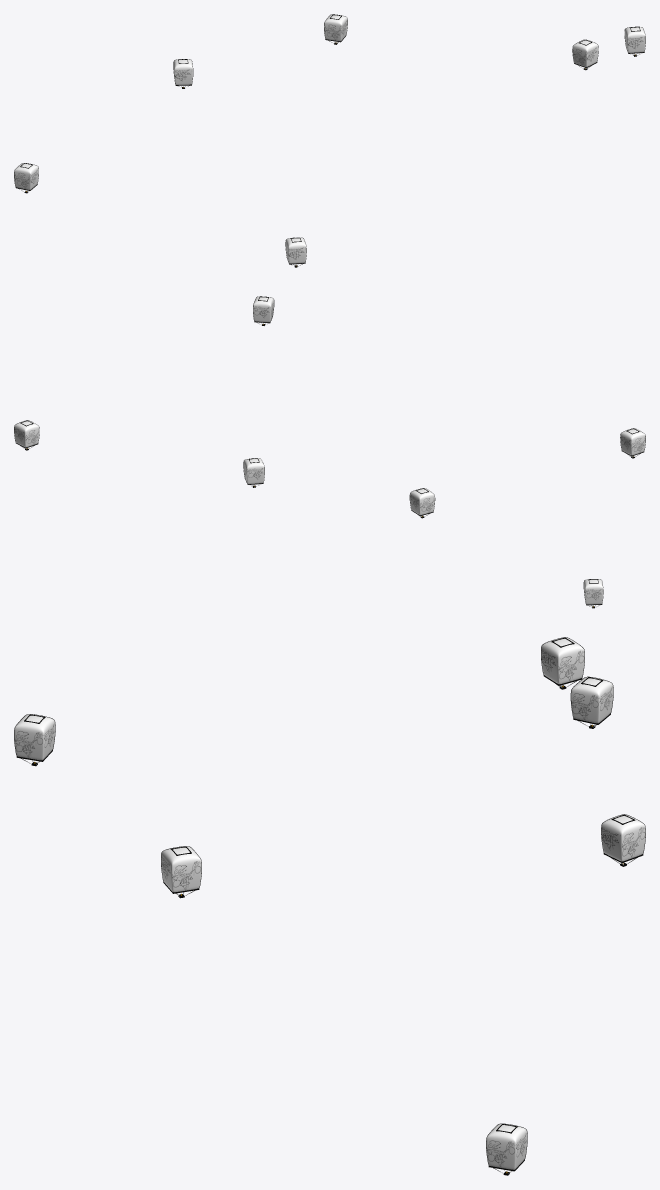
3 views of the same model, one above another, from view 1: azimuth 30°, elevation 25°; view 2: azimuth 150°, elevation 25°; view 3: azimuth 270°, elevation 25° (orthographic). The views are drawn at different scales.
Visible parts, largest first — view 1: lantern5, lantern2, lantern, lantern1, lantern4, lantern3; view 2: lantern4, lantern1, lantern3, lantern, lantern5, lantern2; view 3: lantern, lantern2, lantern3, lantern4, lantern1, lantern5.
Part boxes in pixels (x1,y1,x2,y2): lantern5: (572, 39, 598, 70); lantern2: (14, 163, 38, 193); lantern: (324, 14, 347, 44); lantern1: (285, 237, 306, 267); lantern4: (624, 26, 645, 56); lantern3: (173, 59, 193, 88); lantern4: (14, 420, 39, 450); lantern1: (620, 428, 645, 458); lantern3: (409, 488, 435, 518); lantern: (243, 458, 264, 487); lantern5: (253, 296, 274, 325); lantern2: (583, 579, 603, 608); lantern: (601, 814, 645, 866); lantern2: (541, 637, 584, 689); lantern3: (570, 676, 613, 728); lantern4: (486, 1123, 527, 1175); lantern1: (14, 714, 55, 766); lantern5: (161, 846, 201, 898).
Size of the model in its own units: 6.51 by 1.25 by 3.4.
Materials: 4 (1 with a texture image).
